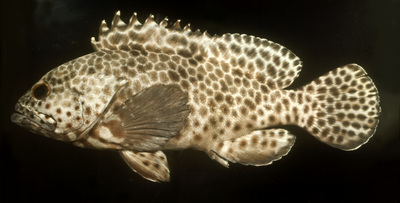fish: (11, 10, 381, 183)
